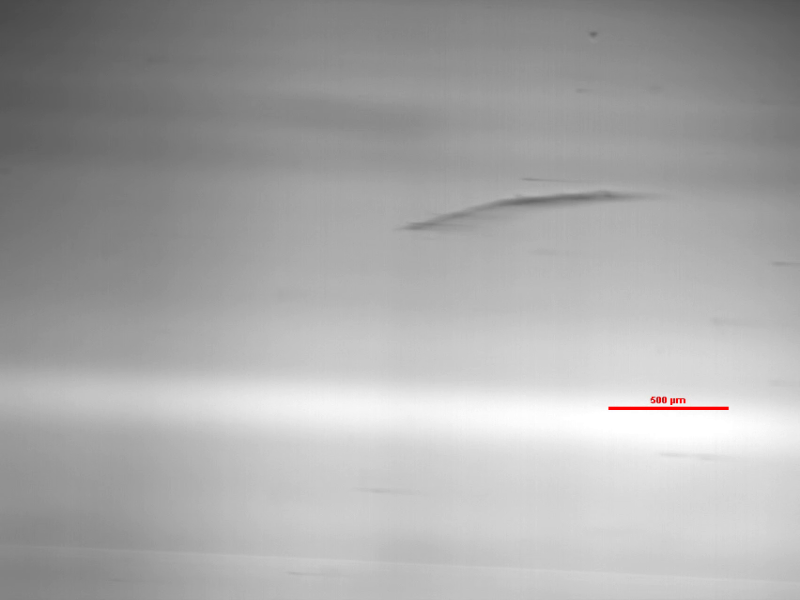bead: (586, 28, 602, 45)
fiber: (396, 187, 673, 234), (655, 448, 765, 469), (708, 315, 797, 332), (352, 481, 430, 499), (517, 174, 612, 187), (286, 566, 341, 577), (767, 256, 800, 272)
